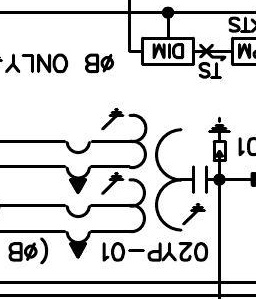115_cvt_1p: (63, 107, 209, 260)
115_la: (208, 116, 232, 162)
DIM: (141, 37, 195, 66)
